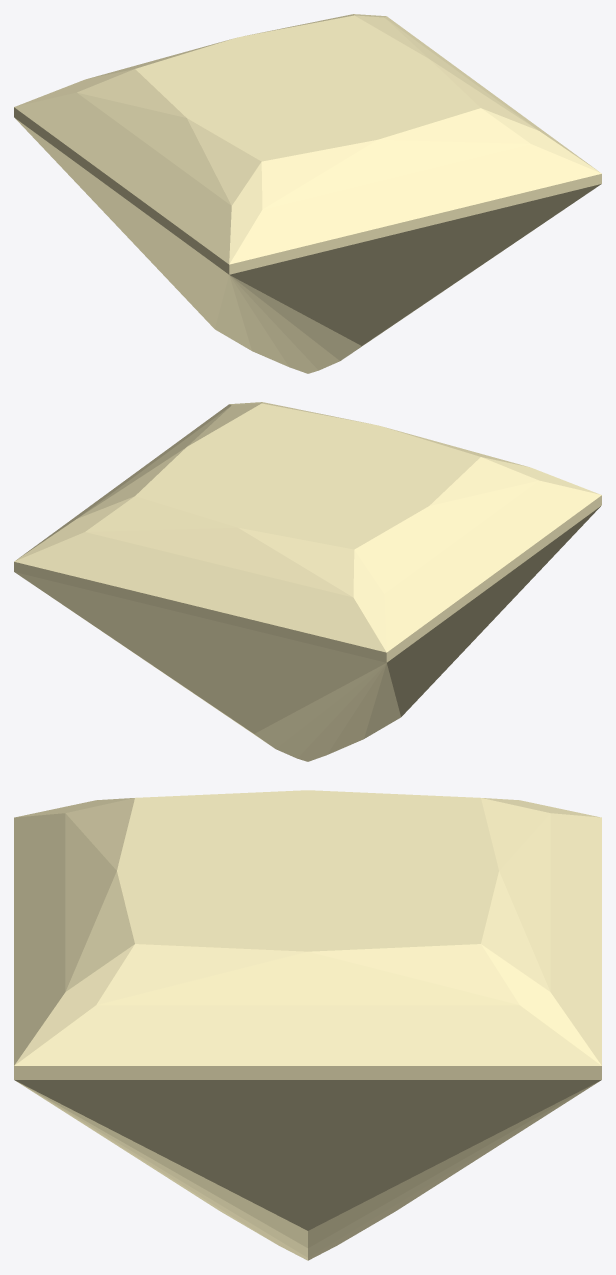
The model's file is princess-gelb-light.glb.
The picture shows the model from 3 angles, top to bottom: view 1: azimuth 30°, elevation 25°; view 2: azimuth 150°, elevation 25°; view 3: azimuth 270°, elevation 25°; orthographic projection. The views are drawn at different scales.
Parts seen in each view (by area): view 1: Princess; view 2: Princess; view 3: Princess.
Boxes of the visible parts, x1,y1,x2,y2 form: Princess: (14,14,601,373); Princess: (14,402,601,761); Princess: (14,790,601,1260).
Bounding box in the file's own units: 0.03 × 0.0219 × 0.03.
